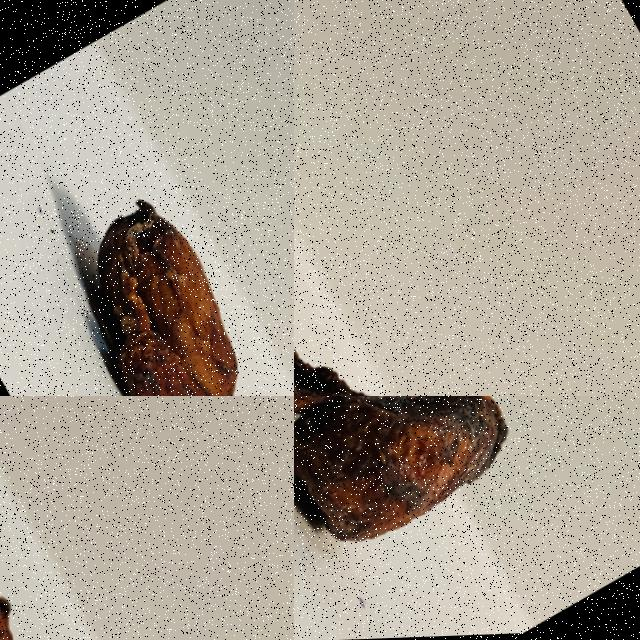Agglomerated_cocoabeans: (0, 117, 293, 395), (294, 396, 616, 639)
Flat_cocoabeans: (294, 49, 431, 395), (0, 430, 127, 639)
